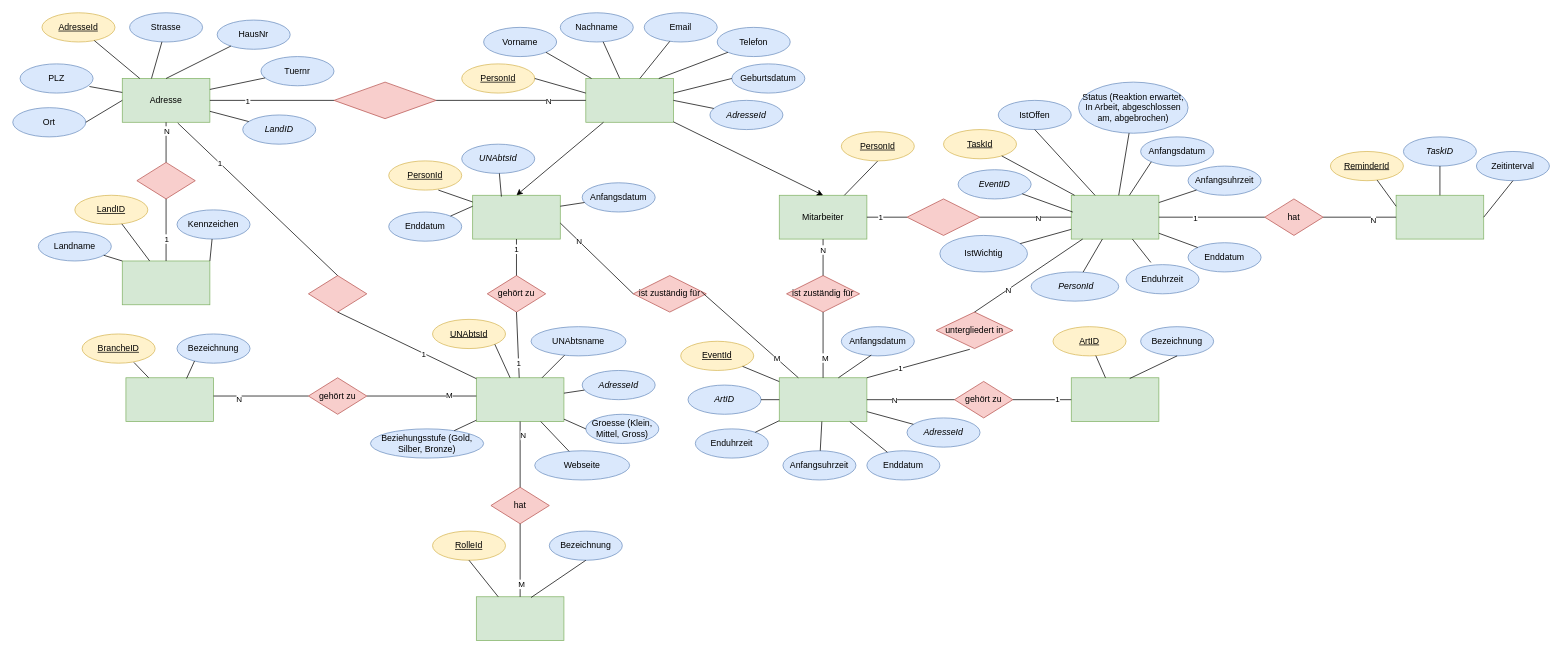
Some shapes in this 1562 by 653 pixel diagram are drawn without their labels. Here are the shapes that lost their labels. From the top down, the centre of each, then its label:
At point 384,100: "wohnt / arbeitet bei".
At point 629,100: "Person".
At point 165,180: "ist in".
At point 516,217: "Kontaktpartner".
At point 943,216: "erledigt".
At point 1115,217: "Task".
At point 1439,217: "Reminder".
At point 166,282: "Land".
At point 337,293: "liegt".
At point 169,399: "Branche".
At point 520,399: "Unternehmen".
At point 823,399: "Event".
At point 1115,399: "Eventsart".
At point 520,618: "Beziehungsrolle".
